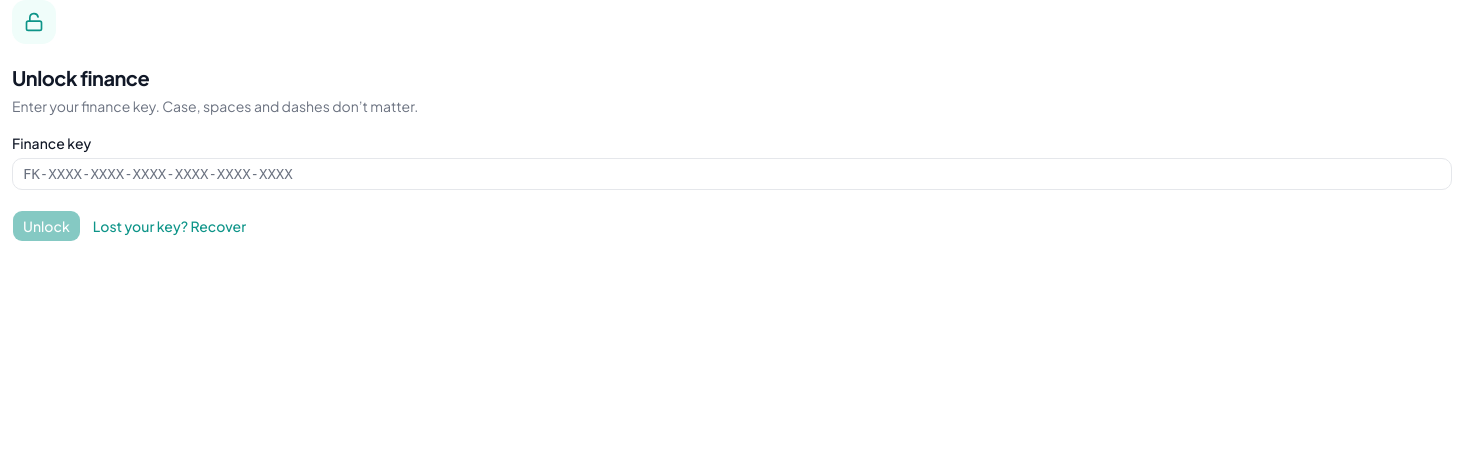
Scenario: finance keys never persist in the browser › recover: new keys are shown, then dropped when the admin moves on
Step 1. Click the button "Lost your key? Recover" → {"x": 169, "y": 226}, box x1=93 y1=216 x2=246 y2=236
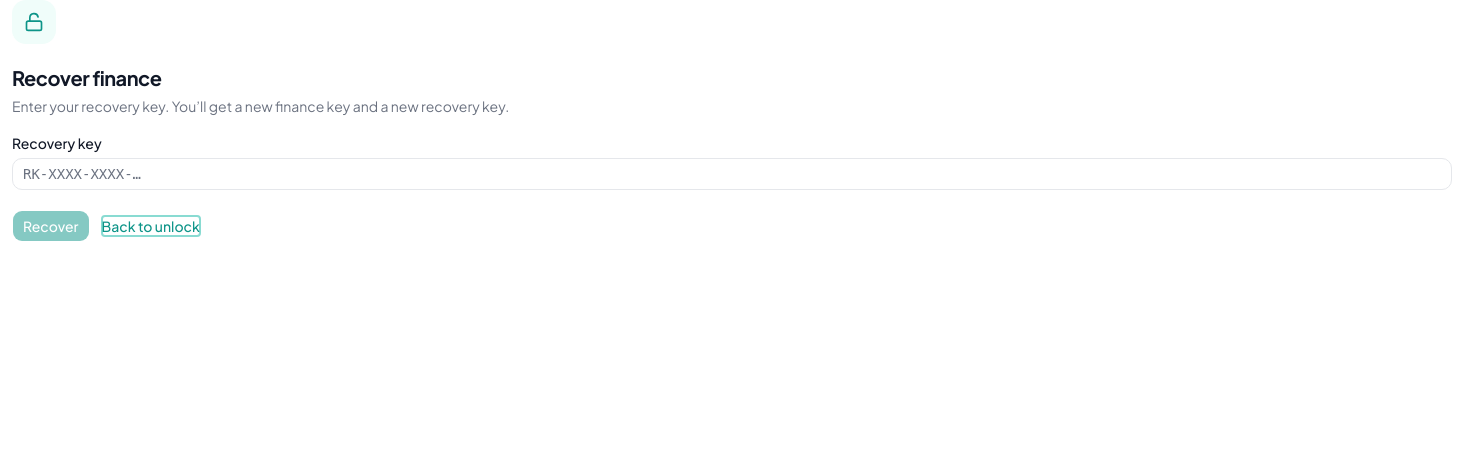
Step 2. Type "RK-1111-2222-3333-4444-5555-6666-7777-8888-9999-AAAA-BBBB-CCCC" into the field labelled "Recovery key" → {"x": 732, "y": 174}, box x1=12 y1=158 x2=1452 y2=190
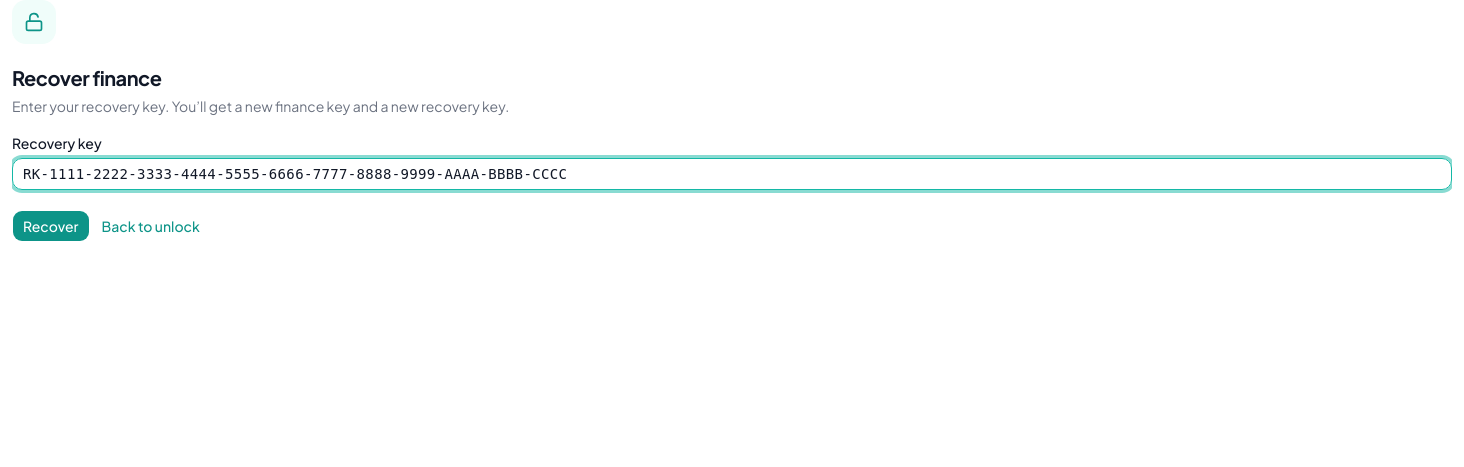
Step 3. Click the button "Recover" → {"x": 51, "y": 226}, box x1=12 y1=210 x2=90 y2=242
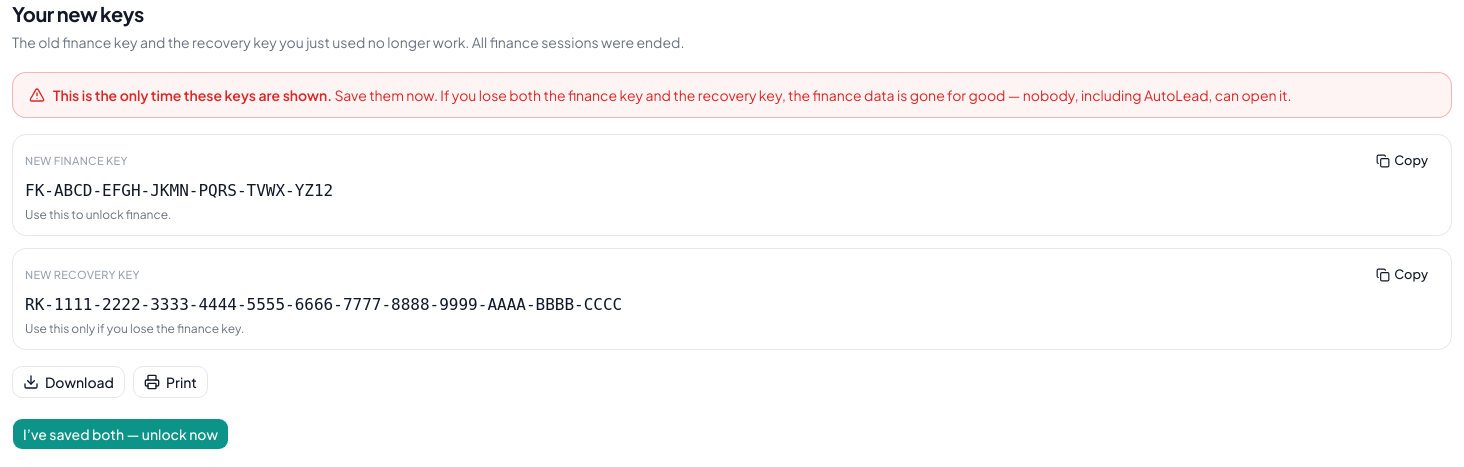
Expected: the text "FK-ABCD-EFGH-JKMN-PQRS-TVWX-YZ12" is shown, x1=25 y1=181 x2=333 y2=200
Step 4. Click the button "I’ve saved both — unlock now" → {"x": 120, "y": 434}, box x1=12 y1=418 x2=229 y2=450
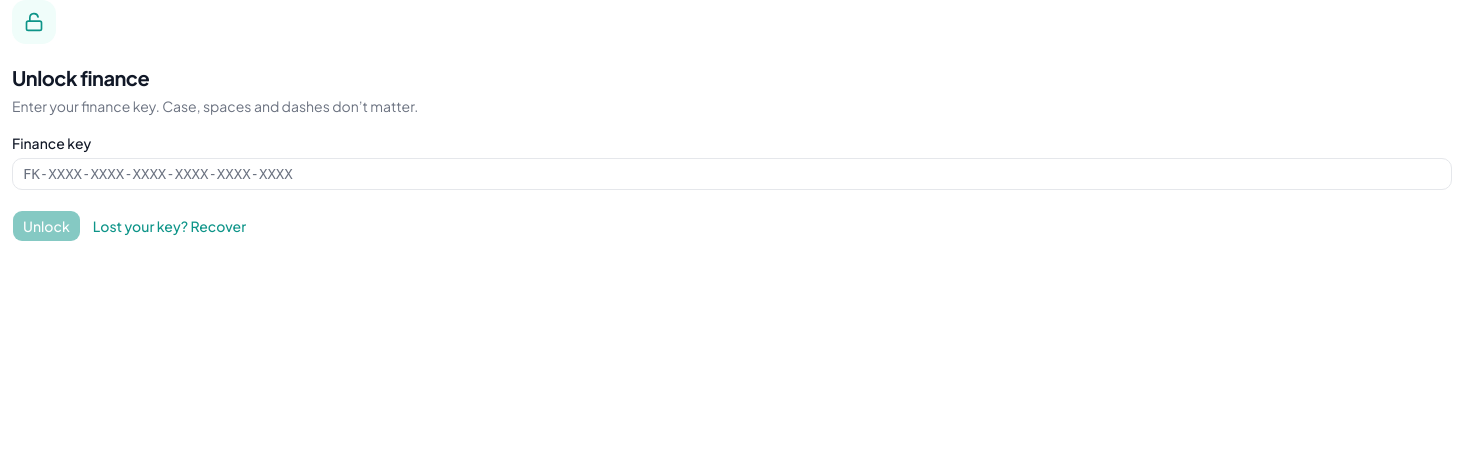
Expected: the text "FK-ABCD-EFGH-JKMN-PQRS-TVWX-YZ12" is gone
Expected: the text "RK-1111-2222-3333-4444-5555-6666-7777-8888-9999-AAAA-BBBB-CCCC" is gone
